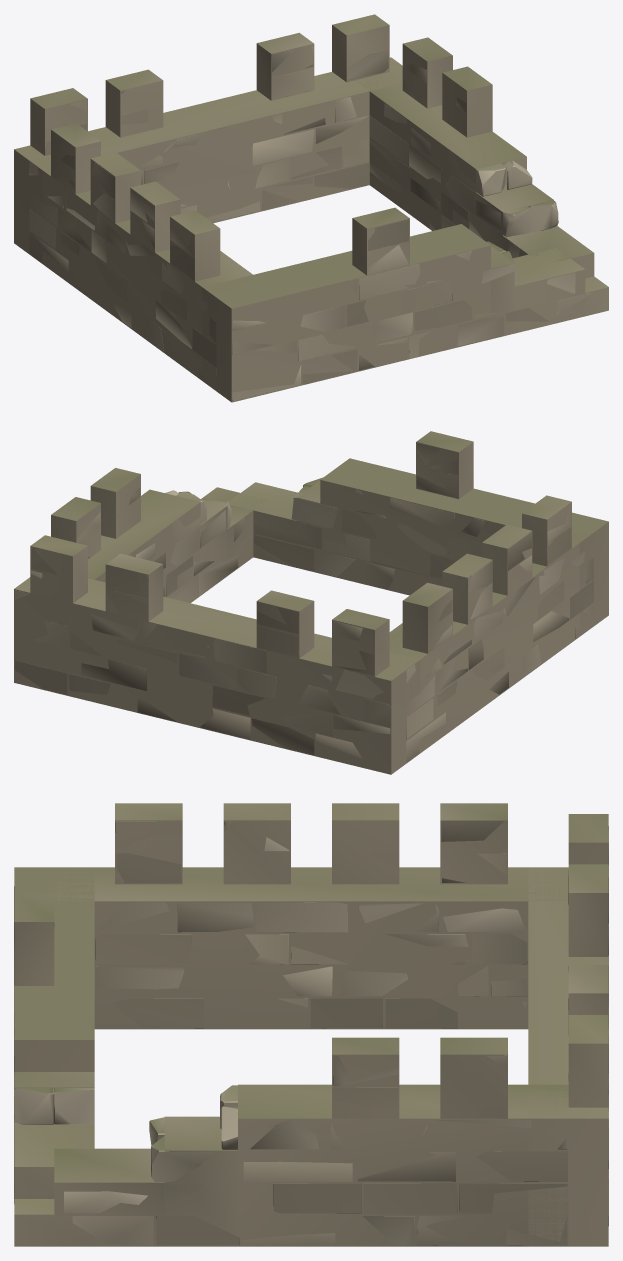
Rendered from citadel_tower_crown.glb.
The picture shows the model from 3 angles, top to bottom: view 1: azimuth 30°, elevation 25°; view 2: azimuth 150°, elevation 25°; view 3: azimuth 270°, elevation 25°; orthographic projection. The views are drawn at different scales.
Parts seen in each view (by area): view 1: citadel_tower_crown_far, citadel_tower_crown; view 2: citadel_tower_crown_far, citadel_tower_crown; view 3: citadel_tower_crown_far, citadel_tower_crown.
Boxes of the visible parts, x1,y1,x2,y2 form: citadel_tower_crown_far: (14,14,608,402); citadel_tower_crown: (29,46,594,401); citadel_tower_crown_far: (14,431,608,774); citadel_tower_crown: (14,443,593,762); citadel_tower_crown_far: (14,803,608,1246); citadel_tower_crown: (14,821,608,1245).
Size of the model in its own units: 37.02 by 13.2 by 37.02.
